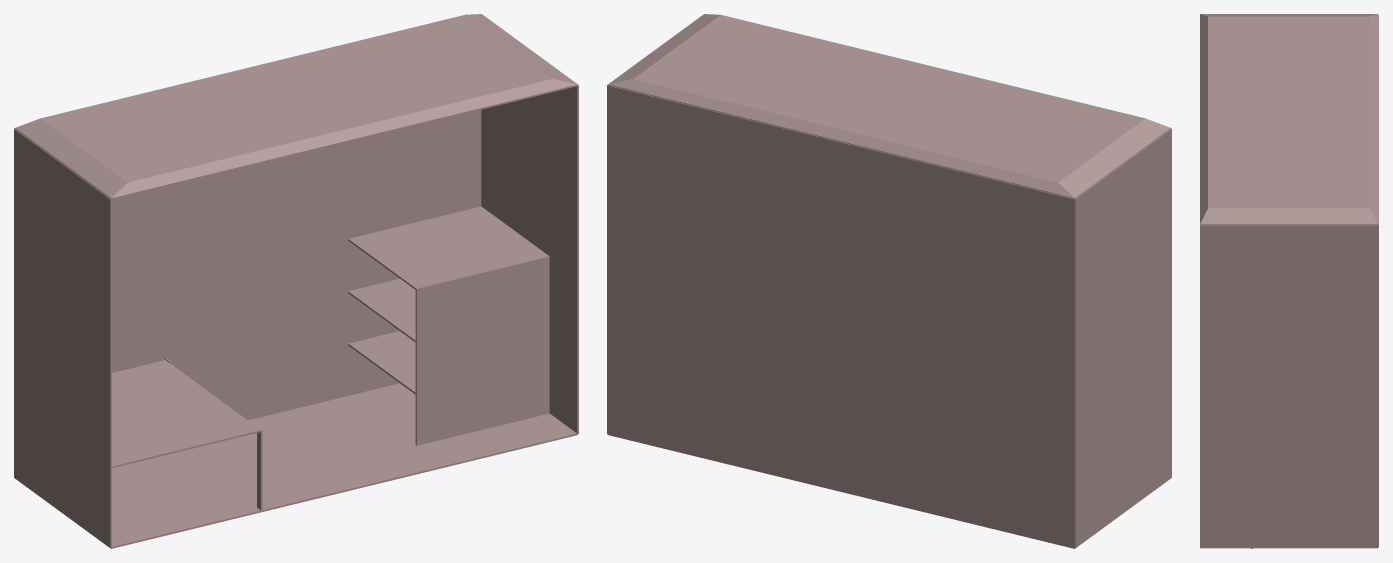
3 renders of one model, left to right at view 1: azimuth 30°, elevation 25°; view 2: azimuth 150°, elevation 25°; view 3: azimuth 270°, elevation 25°, orthographic. The views are drawn at different scales.
Parts seen in each view (by area): view 1: боковая часть, верхняя часть, задняя часть, нижняя часть, боковая стенка, передняя часть, верхняя стенка, подставка диска 3, подставка диска 2, подставка диска 1; view 2: боковая часть, верхняя часть, задняя часть; view 3: передняя часть, верхняя часть, боковая часть.
Part boxes in pixels (<box>): боковая часть: <box>14,110,481,420</box>; верхняя часть: <box>15,14,577,199</box>; задняя часть: <box>14,128,111,548</box>; нижняя часть: <box>111,383,577,548</box>; боковая стенка: <box>415,256,549,445</box>; передняя часть: <box>481,84,578,434</box>; верхняя стенка: <box>112,360,261,468</box>; подставка диска 3: <box>348,206,548,289</box>; подставка диска 2: <box>348,278,415,342</box>; подставка диска 1: <box>348,331,415,394</box>; боковая часть: <box>607,85,1074,548</box>; верхняя часть: <box>608,14,1170,198</box>; задняя часть: <box>1074,128,1171,548</box>; передняя часть: <box>1200,225,1377,547</box>; верхняя часть: <box>1200,14,1377,225</box>; боковая часть: <box>1378,14,1378,547</box>.
Size of the model in its own units: 281 by 206 by 101.
